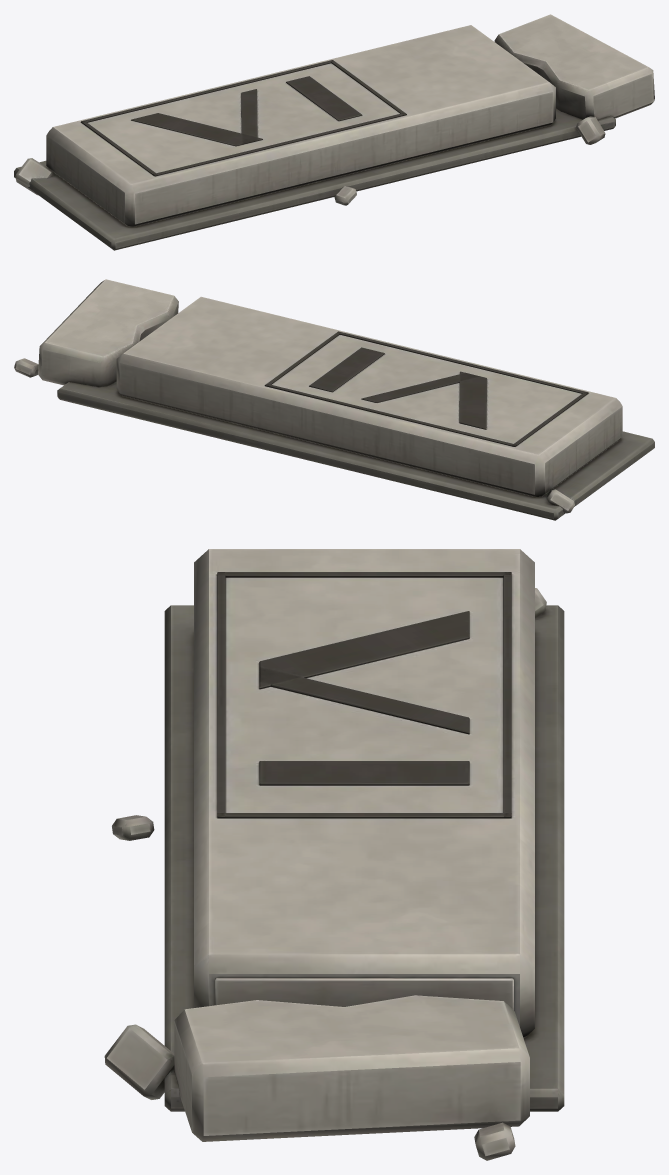
File: vi_slab.glb
The picture shows the model from 3 angles, top to bottom: view 1: azimuth 30°, elevation 25°; view 2: azimuth 150°, elevation 25°; view 3: azimuth 270°, elevation 25°; orthographic projection. The views are drawn at different scales.
Parts seen in each view (by area): view 1: vi_slab_body; view 2: vi_slab_body; view 3: vi_slab_body.
Part boxes in pixels (x1,y1,x2,y2): vi_slab_body: (14,14,654,250); vi_slab_body: (14,279,654,520); vi_slab_body: (104,549,564,1160).
Size of the model in its own units: 6.2 by 0.6142 by 2.18.
1 material, 1 textured.
